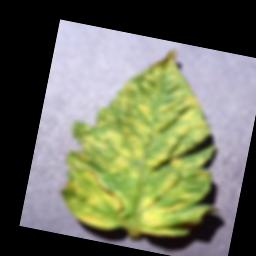Leaf_Mold: (54, 33, 248, 251)
